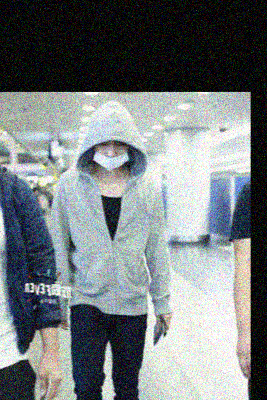mask_weared_incorrect: (92, 138, 129, 171)
